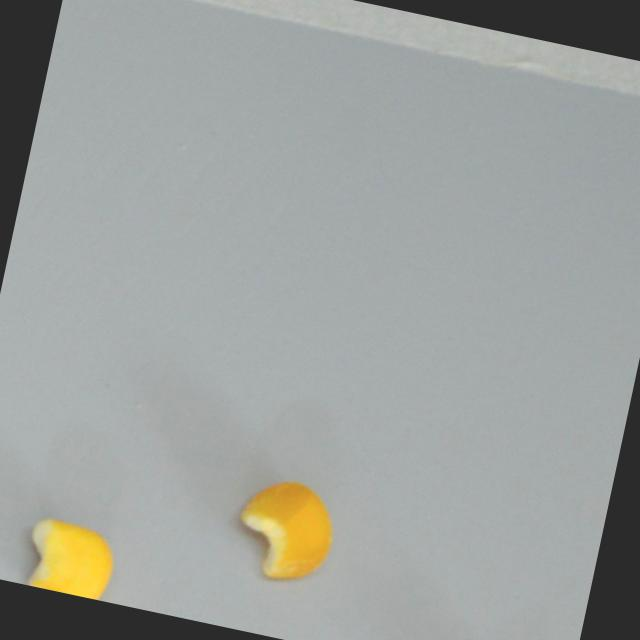dañado: (222, 469, 346, 592)
no_desgerminado: (15, 511, 121, 602)
